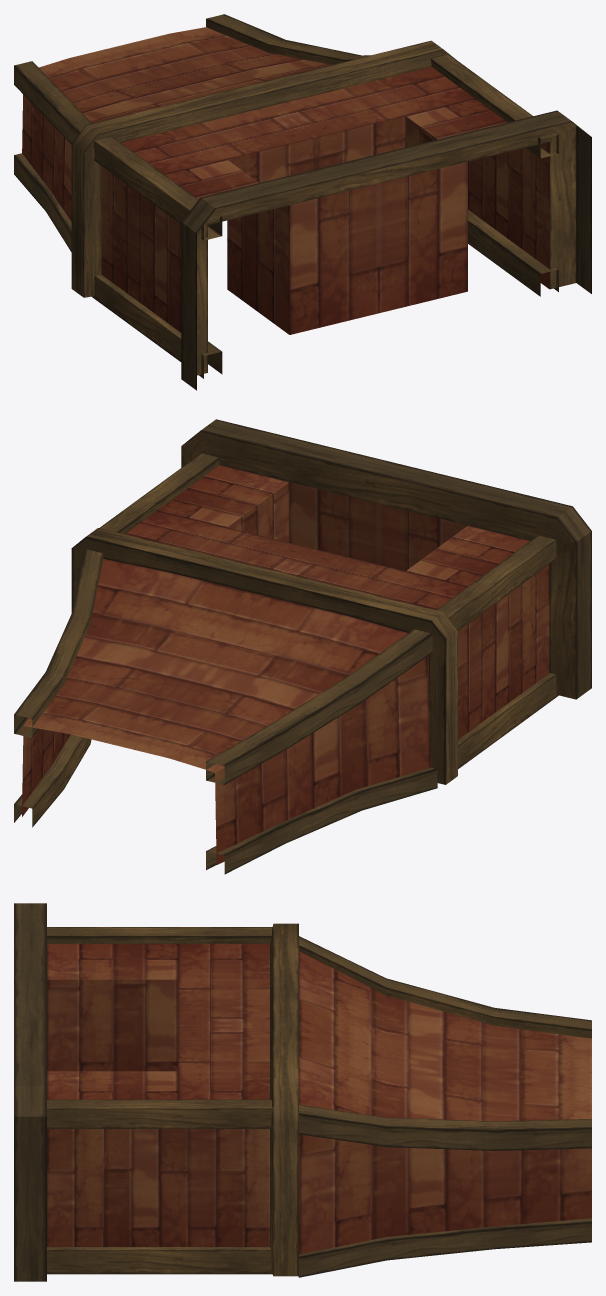
The model's file is Fireplace.fbx.
The picture shows the model from 3 angles, top to bottom: view 1: azimuth 30°, elevation 25°; view 2: azimuth 150°, elevation 25°; view 3: azimuth 270°, elevation 25°; orthographic projection. The views are drawn at different scales.
Visible parts, largest first — view 1: Fireplace; view 2: Fireplace; view 3: Fireplace.
Boxes of the visible parts, bbox=[...] form: Fireplace: bbox=[14, 14, 591, 390]; Fireplace: bbox=[14, 419, 591, 874]; Fireplace: bbox=[14, 903, 591, 1281].
Bounding box in the file's own units: 27.59 × 12.33 × 33.31.
